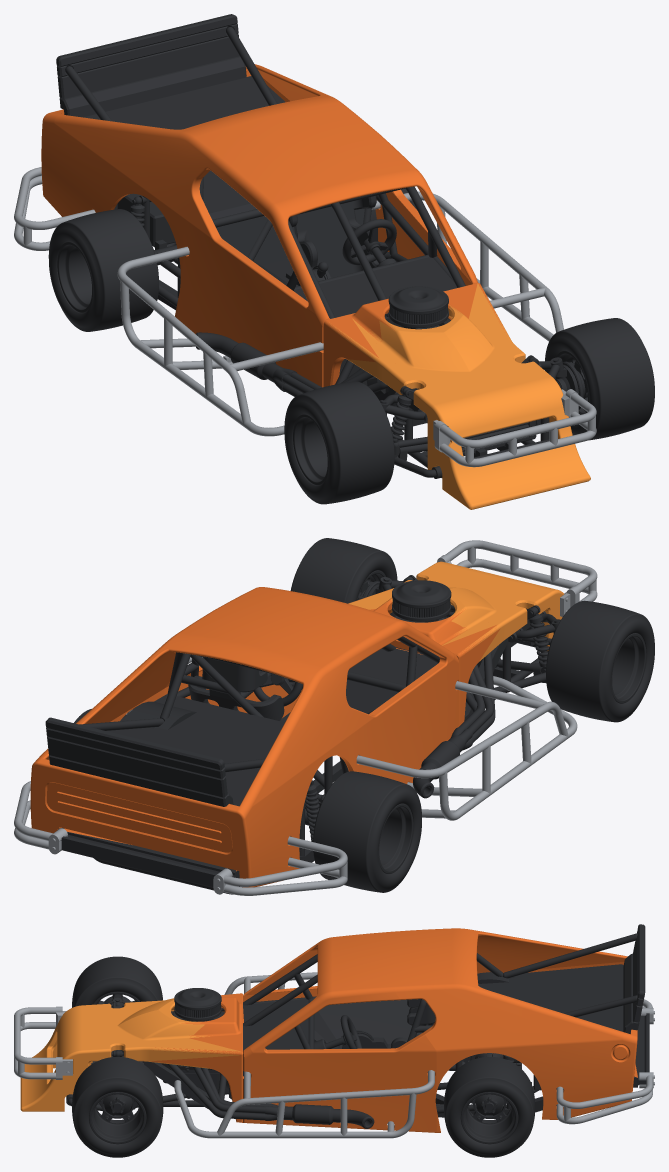
File: TourModifiedDetailed.fbx
The picture shows the model from 3 angles, top to bottom: view 1: azimuth 30°, elevation 25°; view 2: azimuth 150°, elevation 25°; view 3: azimuth 270°, elevation 25°; orthographic projection. The views are drawn at different scales.
Parts seen in each view (by area): view 1: BodyPaint, wheel, HoodTrunkPaint, ModifiedMetal, TourModified.Wheel.Ft.R, TourModified.Wheel.Bk.R, TourModified.Wheel.Ft.L; view 2: BodyPaint, wheel, ModifiedMetal, TourModified.Wheel.Ft.R, TourModified.Wheel.Bk.R, HoodTrunkPaint, TourModified.Wheel.Ft.L; view 3: BodyPaint, wheel, HoodTrunkPaint, ModifiedMetal, TourModified.Wheel.Ft.L, TourModified.Wheel.Bk.L, TourModified.Wheel.Ft.R.
Part boxes in pixels (x1,y1,x2,y2): BodyPaint: (41, 64, 505, 387); wheel: (56, 14, 583, 478); HoodTrunkPaint: (328, 283, 590, 509); ModifiedMetal: (14, 167, 596, 467); TourModified.Wheel.Ft.R: (284, 381, 394, 504); TourModified.Wheel.Bk.R: (48, 209, 158, 331); TourModified.Wheel.Ft.L: (545, 318, 654, 440); BodyPaint: (30, 587, 500, 887); wheel: (45, 575, 560, 894); ModifiedMetal: (14, 540, 597, 895); TourModified.Wheel.Ft.R: (546, 600, 654, 722); TourModified.Wheel.Bk.R: (313, 771, 421, 892); HoodTrunkPaint: (348, 561, 563, 661); TourModified.Wheel.Ft.L: (290, 538, 397, 603); BodyPaint: (151, 928, 637, 1132); wheel: (66, 924, 649, 1128); HoodTrunkPaint: (20, 993, 240, 1111); ModifiedMetal: (14, 972, 654, 1138); TourModified.Wheel.Ft.L: (72, 1056, 163, 1157); TourModified.Wheel.Bk.L: (444, 1057, 535, 1157); TourModified.Wheel.Ft.R: (72, 956, 162, 1054).
Bounding box in the file's own units: 133 × 74.66 × 290.
